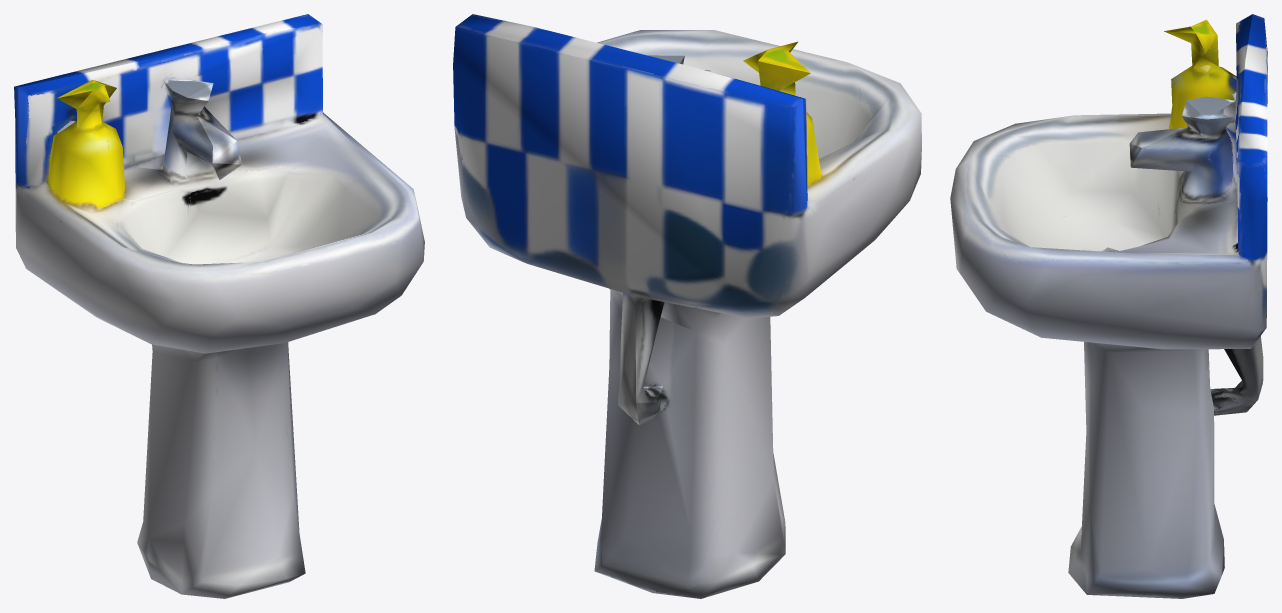
The model's file is school-sink.glb.
3 views of the same model, side by side, from view 1: azimuth 30°, elevation 25°; view 2: azimuth 150°, elevation 25°; view 3: azimuth 270°, elevation 25° (orthographic). The views are drawn at different scales.
Visible parts, largest first — view 1: geometry_0.001; view 2: geometry_0.001; view 3: geometry_0.001.
Boxes of the visible parts, left/top/right/bottom form: geometry_0.001: left=14, top=14, right=424, bottom=598; geometry_0.001: left=453, top=14, right=921, bottom=598; geometry_0.001: left=950, top=14, right=1267, bottom=598.
Size of the model in its own units: 0.6731 by 0.9929 by 0.5812.
Materials: 1 (1 with a texture image).
